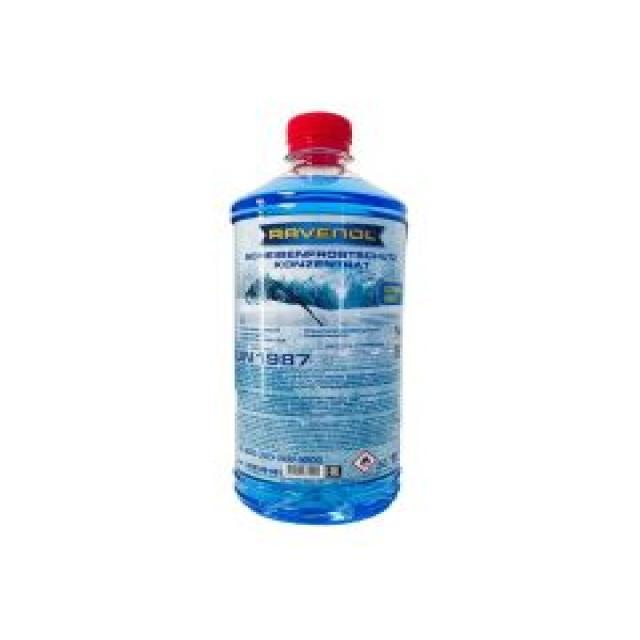winwinshield_washer: (225, 105, 425, 531)
